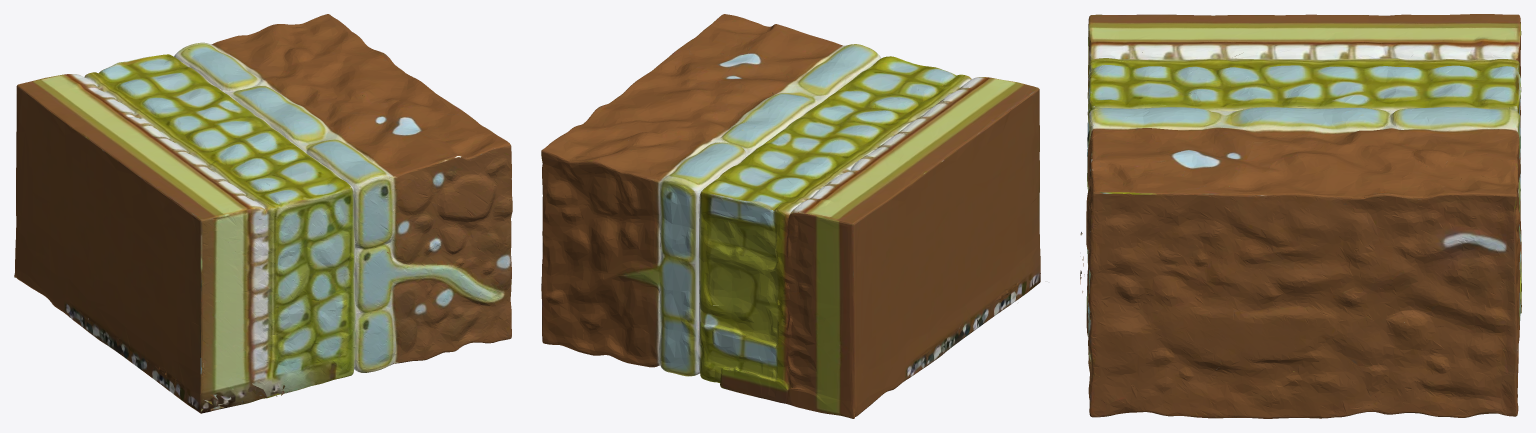
Rendered from plant_cross_section.opt.glb.
The picture shows the model from 3 angles, left to right: view 1: azimuth 30°, elevation 25°; view 2: azimuth 150°, elevation 25°; view 3: azimuth 270°, elevation 25°; orthographic projection. The views are drawn at different scales.
Parts seen in each view (by area): view 1: geometry_0.001; view 2: geometry_0.001; view 3: geometry_0.001.
Part boxes in pixels (x1,y1,x2,y2): geometry_0.001: [14, 14, 512, 413]; geometry_0.001: [541, 14, 1040, 418]; geometry_0.001: [1080, 14, 1521, 418].
Bounding box in the file's own units: 1.96 × 1.15 × 1.99.
Materials: 1 (1 with a texture image).
